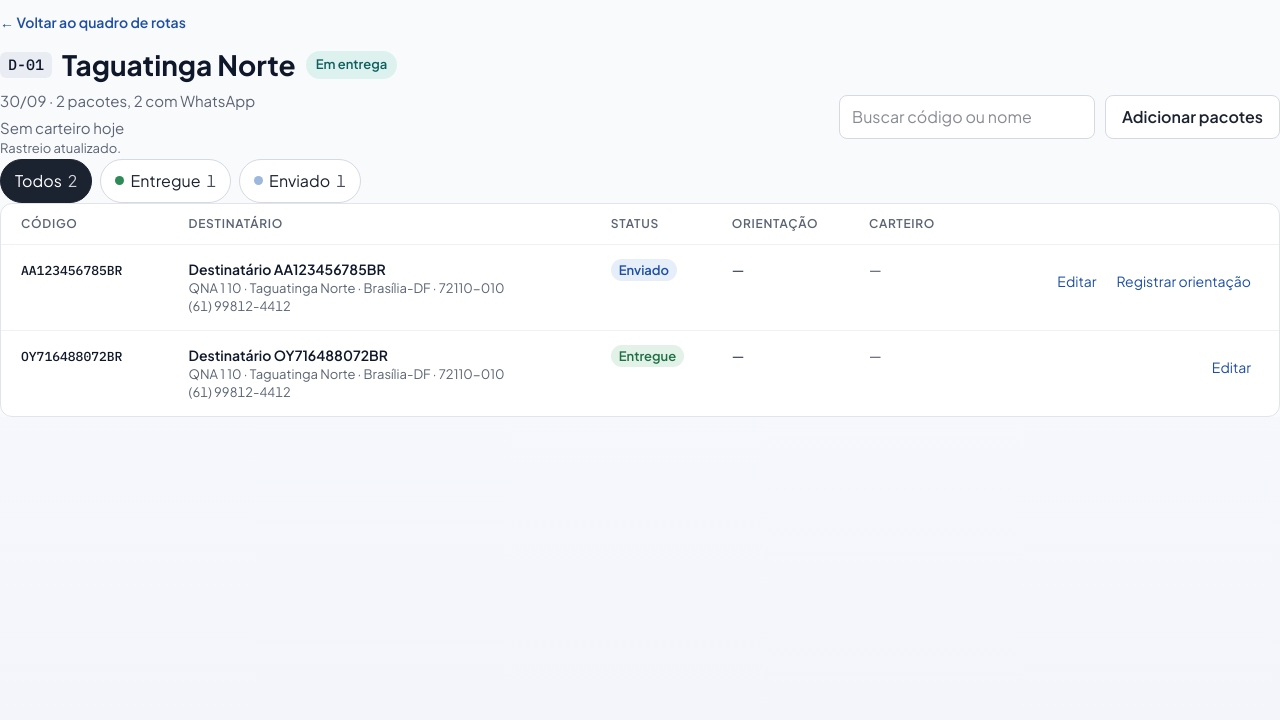
Test: Orientação manual do supervisor (US-026) › registra com o texto e "vale também para amanhã", fecha o diálogo e recarrega a linha
Click the button with aria-label "Registrar orientação para AA123456785BR" at {"x": 1184, "y": 280}, box top-left (1108, 258), bottom-right (1259, 302)
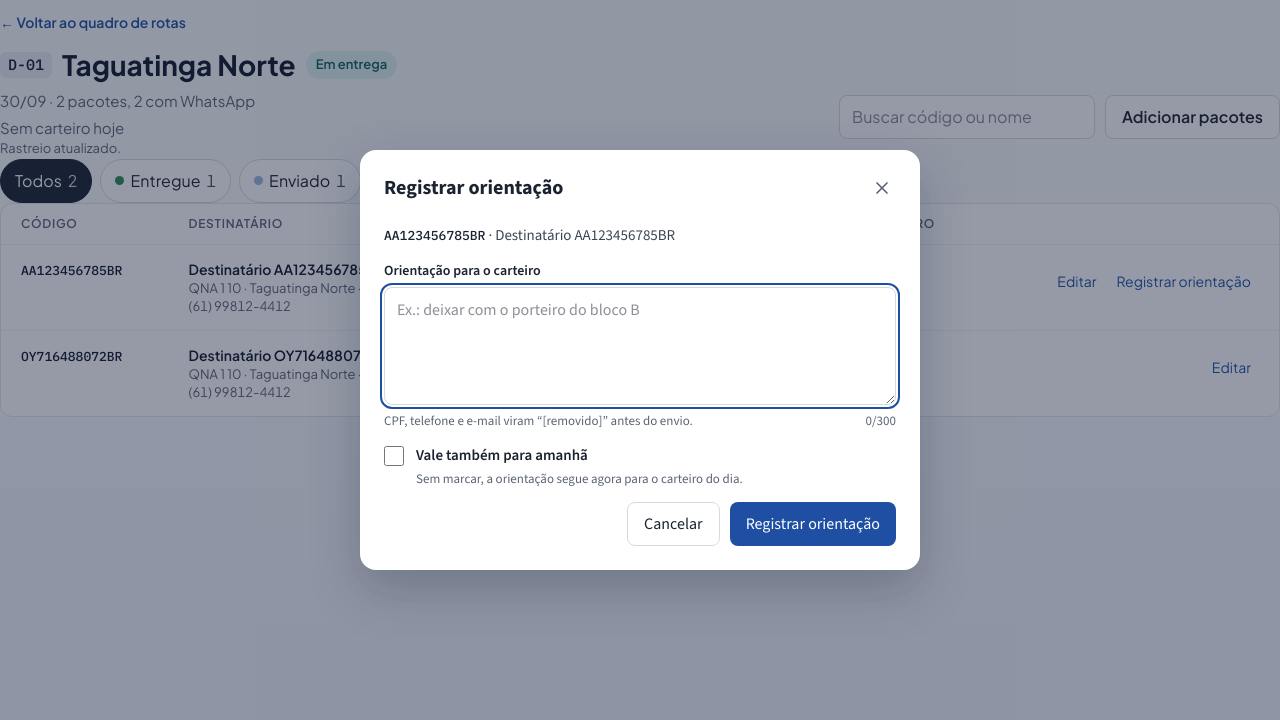
Type "Deixar com o porteiro do bloco B" into the text box labelled "Orientação para o carteiro" at {"x": 640, "y": 346}, box top-left (384, 286), bottom-right (896, 404)
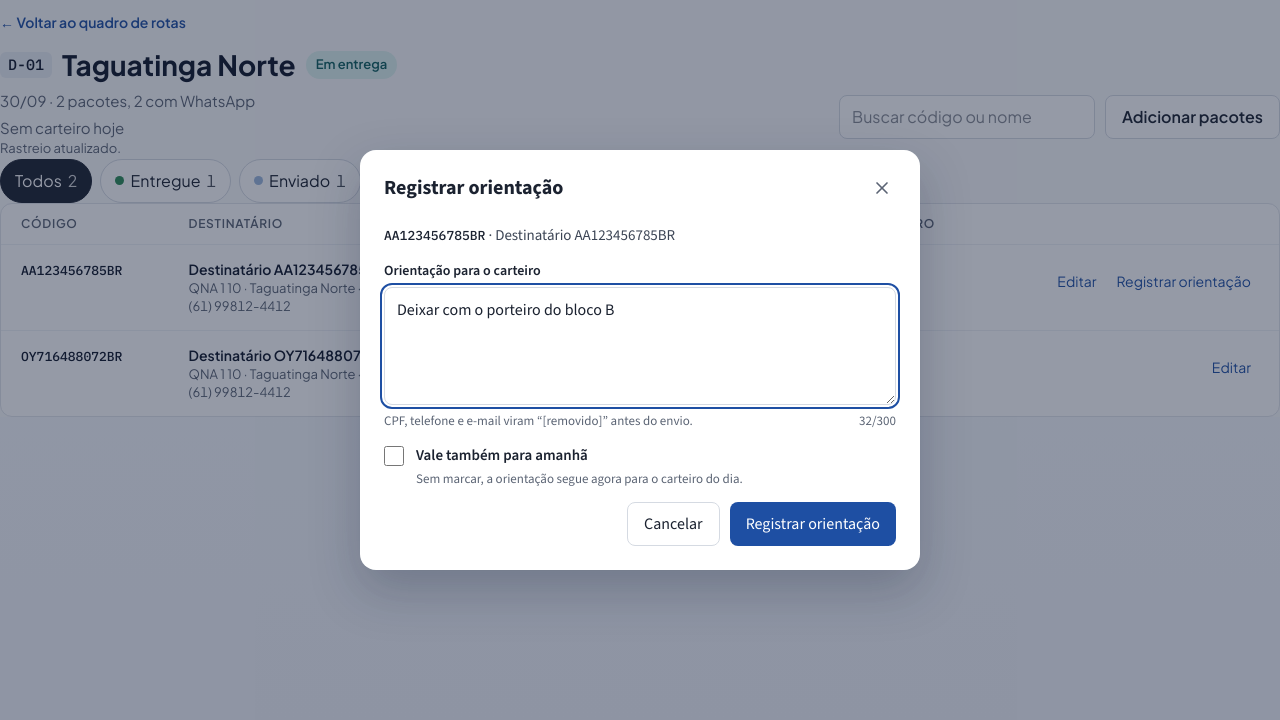
Click the checkbox labelled "Vale também para amanhã" at {"x": 394, "y": 456}, box top-left (384, 446), bottom-right (404, 466)
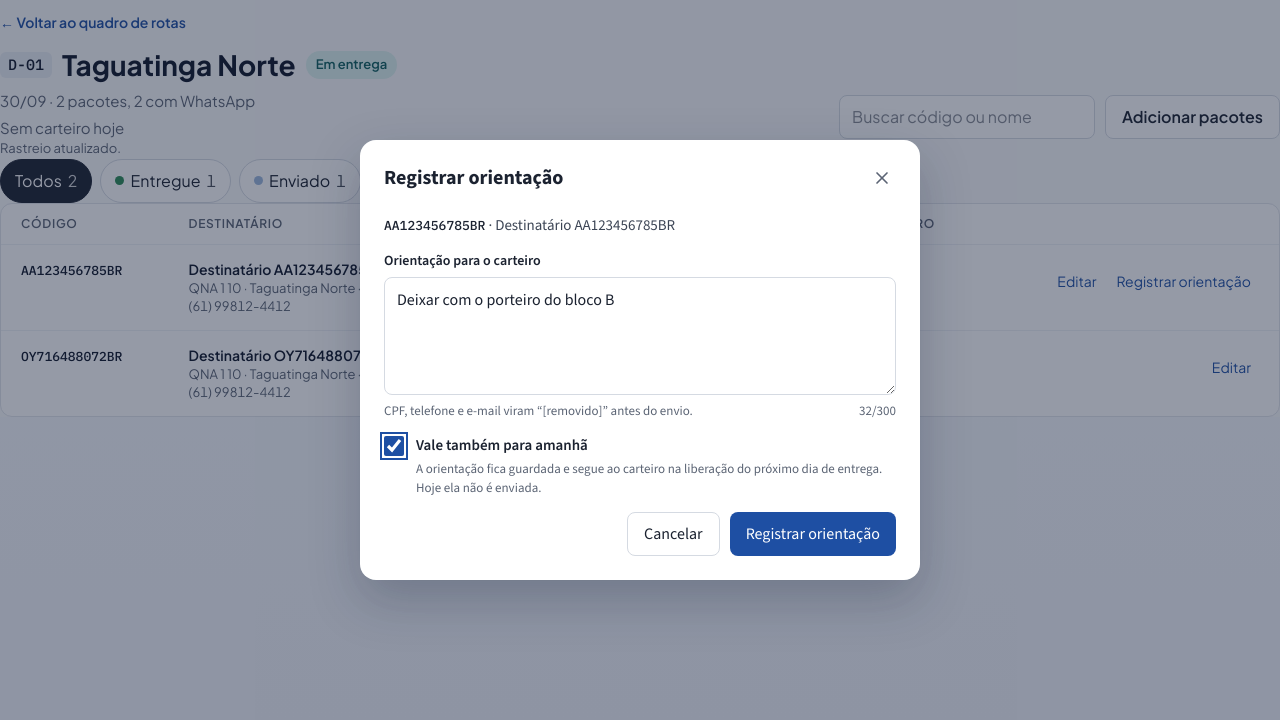
Click the button "Registrar orientação" at {"x": 813, "y": 534}, box top-left (730, 512), bottom-right (896, 556)
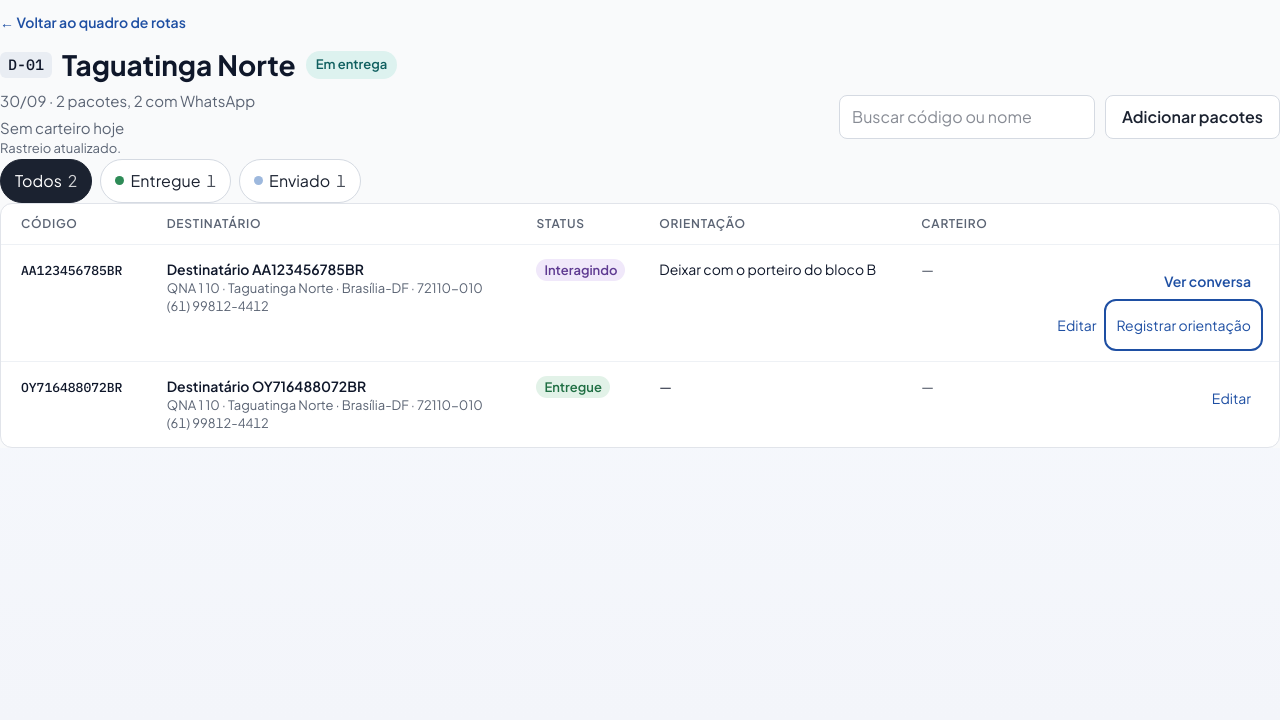
Expected: the text "AA123456785BR" is shown, top-left (21, 262), bottom-right (122, 278)
Expected: the dialog is gone
Expected: the text "Interagindo" is shown, top-left (536, 258), bottom-right (625, 281)
